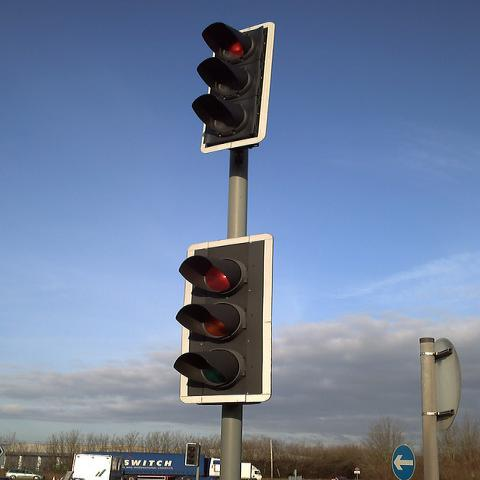car: (6, 469, 43, 478)
truck: (79, 449, 261, 480), (72, 453, 111, 479)
